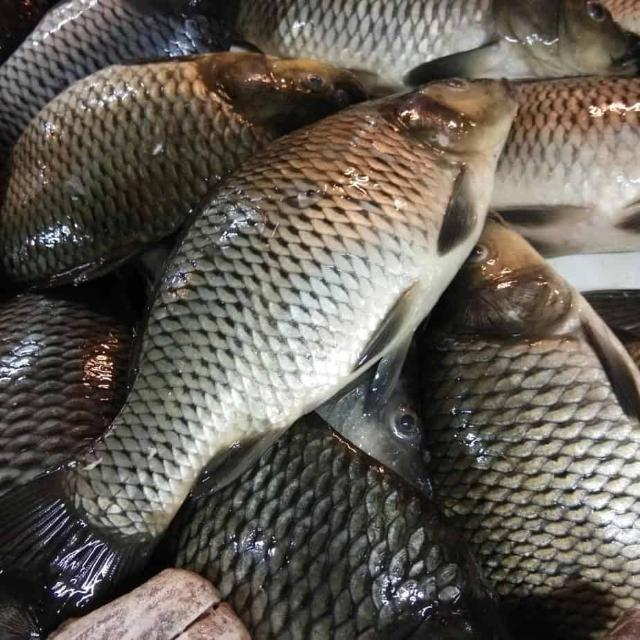Mulut: (460, 59, 552, 133)
Sirip Anal: (165, 418, 305, 510)
Sirip Dada: (408, 152, 488, 280)
Sirip Perut: (340, 274, 428, 421)
